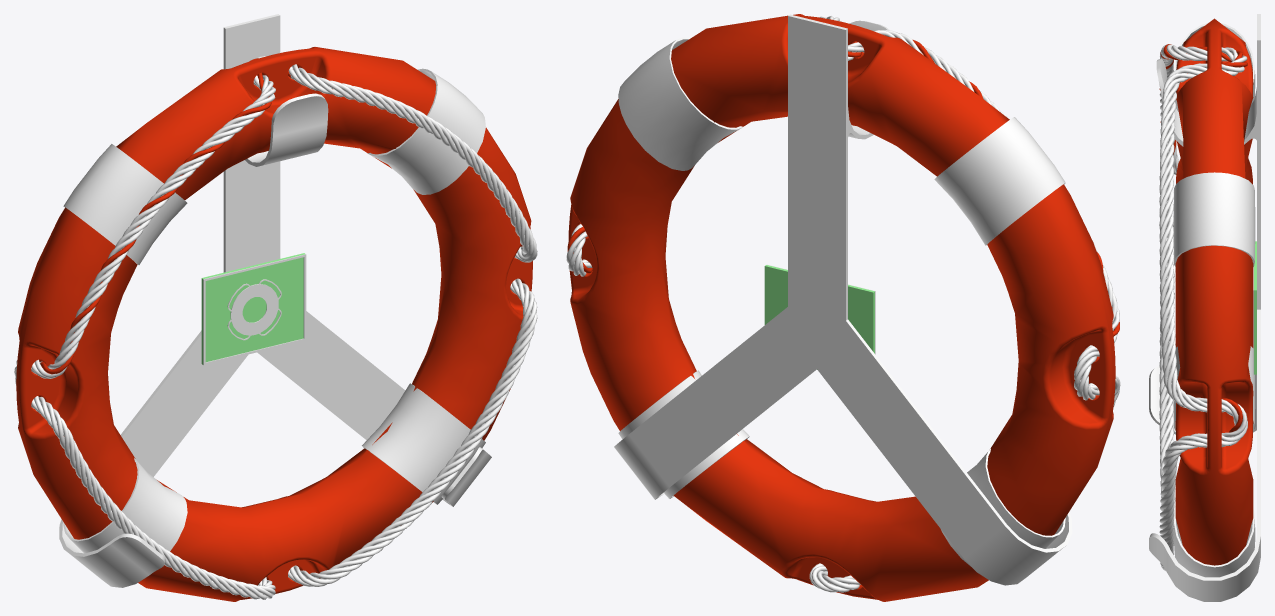
3 renders of one model, left to right at view 1: azimuth 30°, elevation 25°; view 2: azimuth 150°, elevation 25°; view 3: azimuth 270°, elevation 25°, orthographic. The views are drawn at different scales.
Visible parts, largest first — view 1: NAUO19; view 2: NAUO19; view 3: NAUO19.
Boxes of the visible parts, x1,y1,x2,y2 form: NAUO19: (14, 14, 537, 601); NAUO19: (566, 14, 1120, 601); NAUO19: (1149, 14, 1260, 601).
Size of the model in its own units: 0.75 by 0.7744 by 0.1445.
